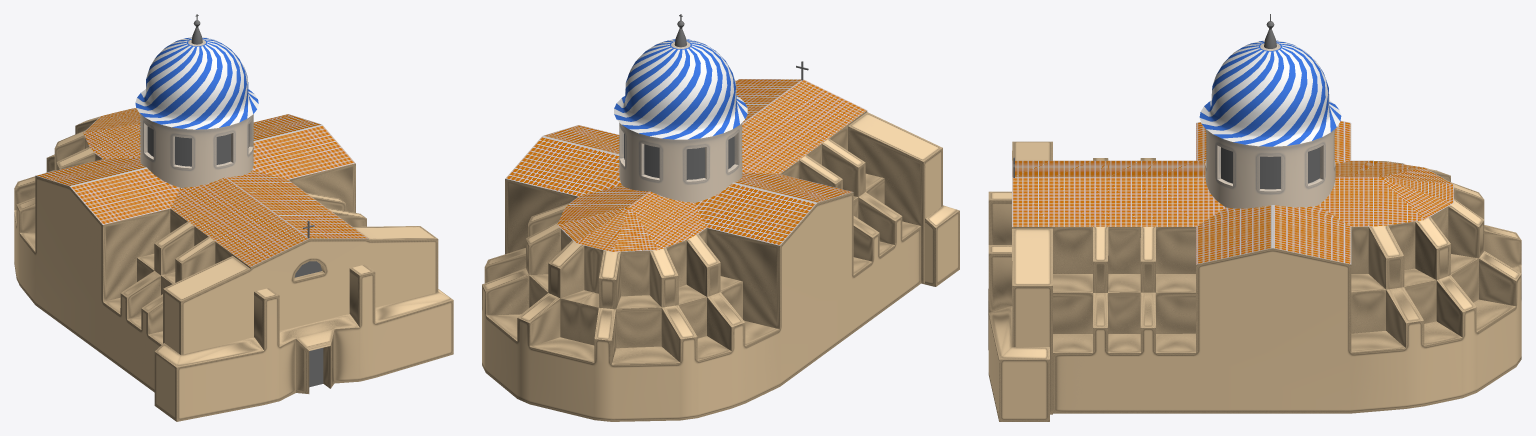
File: Basílica3.fbx
3 renders of one model, left to right at view 1: azimuth 30°, elevation 25°; view 2: azimuth 150°, elevation 25°; view 3: azimuth 270°, elevation 25°, orthographic. The views are drawn at different scales.
Visible parts, largest first — view 1: mUR, mUR.002front, Cupula; view 2: mUR, Cupula, mUR.002front; view 3: mUR, Cupula, mUR.002front.
Part boxes in pixels (box(x1,y1,x2,y2)): mUR: box(14, 108, 438, 392); mUR.002front: box(154, 264, 453, 421); Cupula: box(135, 14, 258, 187); mUR: box(482, 79, 942, 421); Cupula: box(614, 14, 747, 202); mUR.002front: box(924, 205, 959, 286); mUR: box(1012, 121, 1521, 414); Cupula: box(1199, 14, 1341, 208); mUR.002front: box(988, 191, 1049, 421).
Size of the model in its own units: 765 by 759 by 1110.
Materials: 8 (5 with a texture image).
